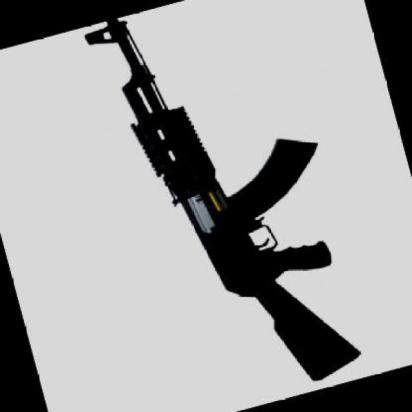Gun: (84, 0, 401, 412)
